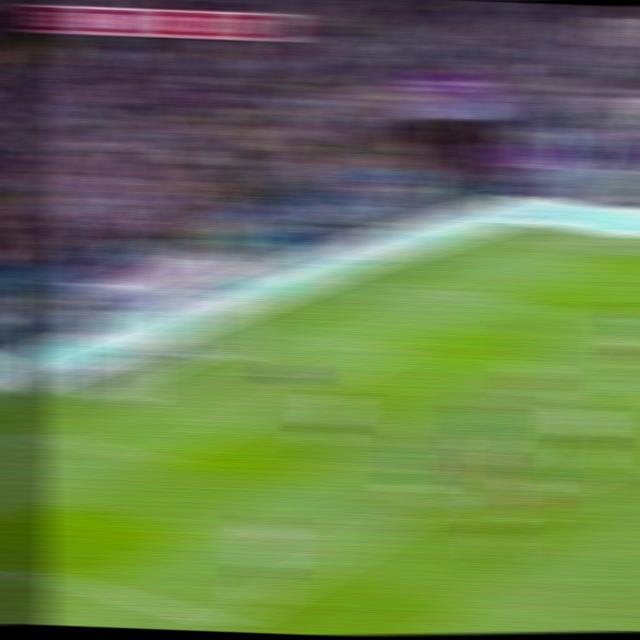bigarea_bottom_inner: (208, 610, 248, 632)
bigarea_top_outter: (397, 279, 432, 293)
bottom_arc_area_intersection: (411, 494, 456, 512)
corner: (514, 235, 549, 243)
smallarea_bottom_inner: (136, 449, 177, 469)
smallarea_bottom_outter: (27, 425, 65, 442)
smallarea_top_inner: (373, 346, 410, 359)
smallarea_top_outter: (280, 326, 315, 338)
top_arc_area_intersection: (582, 399, 617, 412)
